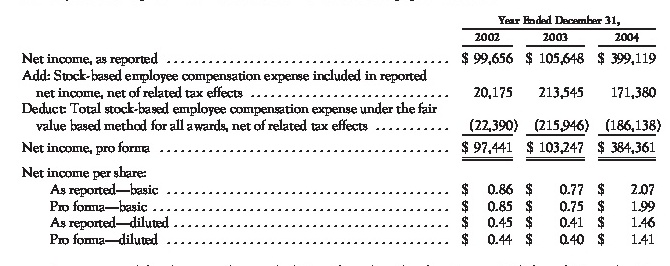table: (0, 0, 670, 266)
